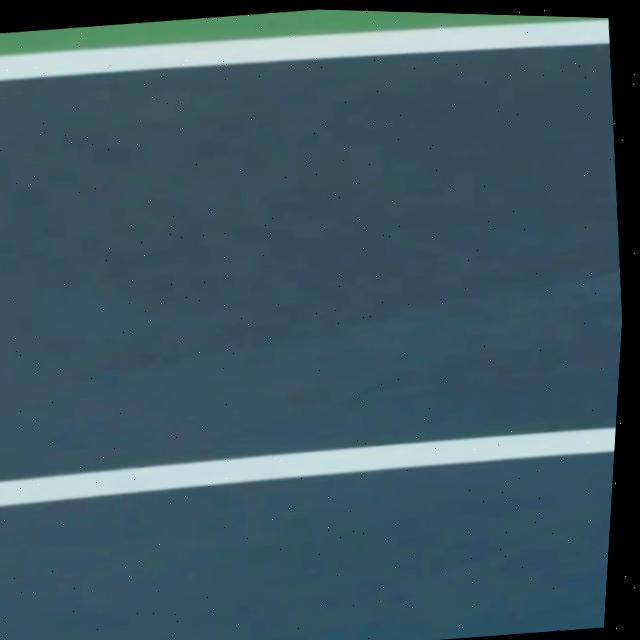center: (0, 427, 616, 505)
right: (0, 18, 609, 80)
